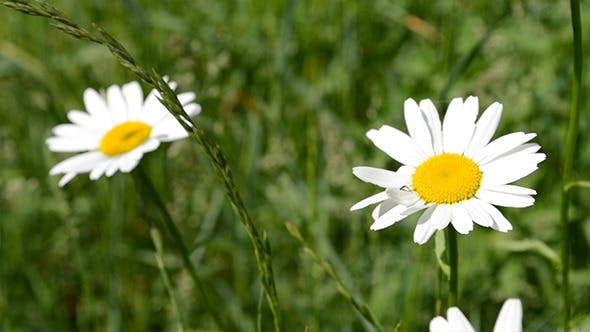papatya: (352, 98, 547, 243)
